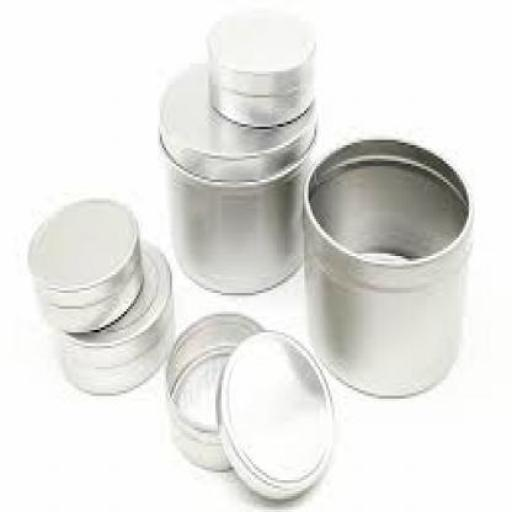metal: (298, 134, 472, 399), (156, 58, 313, 293), (214, 324, 332, 499), (57, 238, 172, 390), (164, 312, 266, 470), (28, 197, 144, 333), (206, 8, 316, 121)
